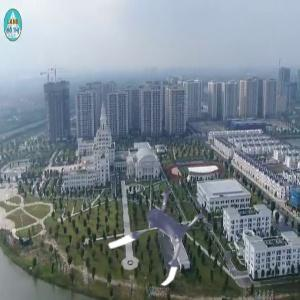drone: (103, 176, 216, 289)
